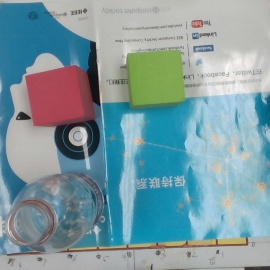bottle: (6, 181, 113, 246)
